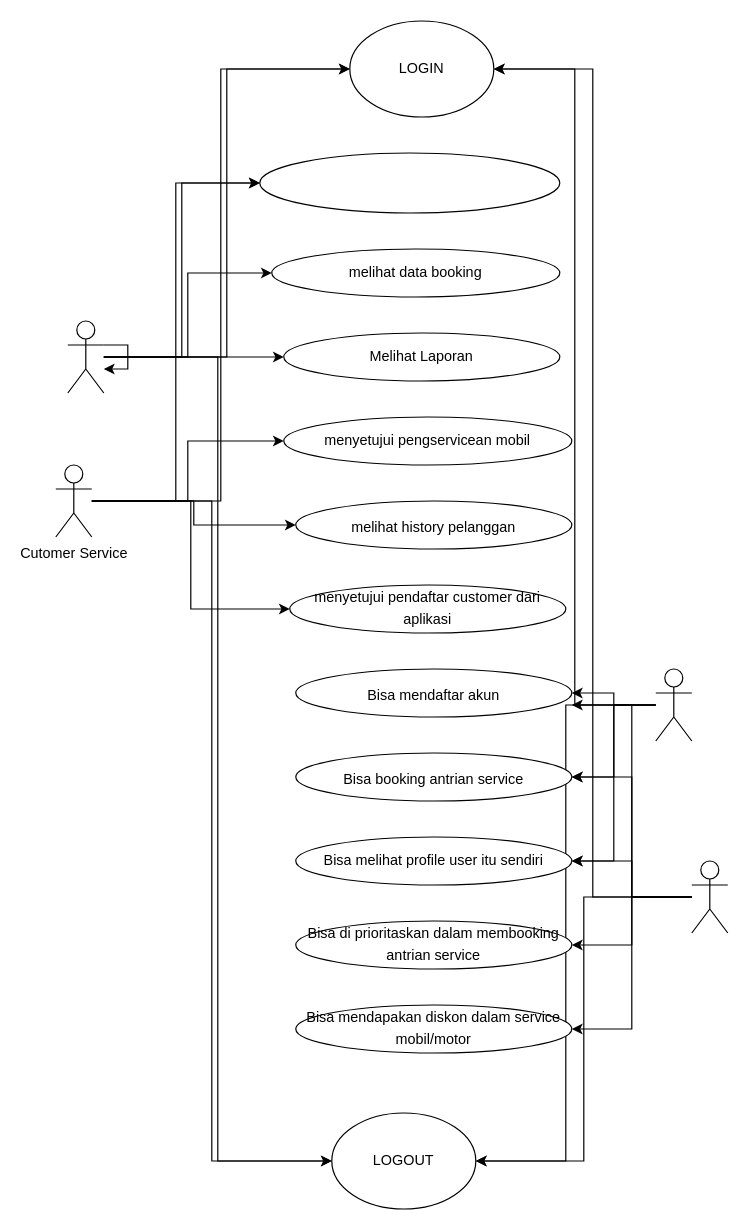
This 756x1230 diagram has some shape labels left out. Each missing label, with the centre of its shape:
"Admin" goes at (x=85, y=356).
"melihat profile pelanggan" goes at (x=409, y=182).
"User" goes at (x=673, y=704).
"user vip" goes at (x=709, y=896).
